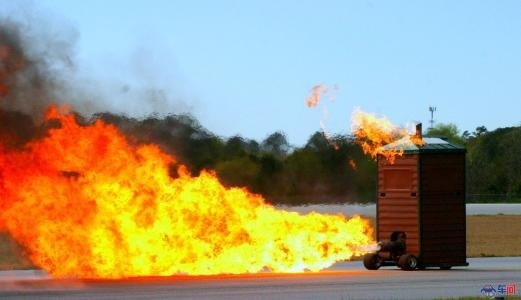fire: (0, 87, 375, 280), (348, 107, 423, 161), (304, 82, 335, 108)
